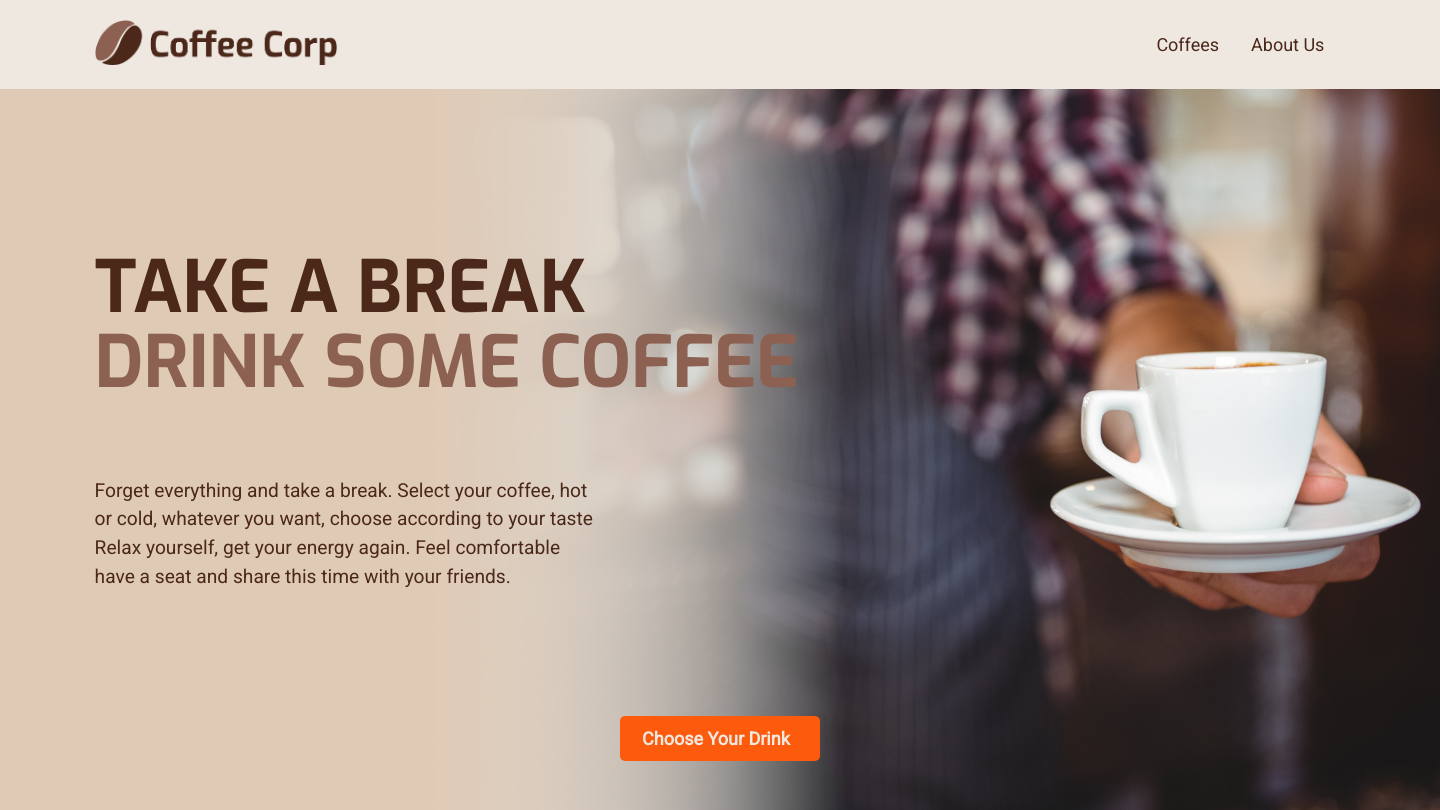
Test: should navigation buttons change page to about us page
The image size is (1440, 810).
Click the link "About Us": [1288, 44] box [1251,34,1324,55]
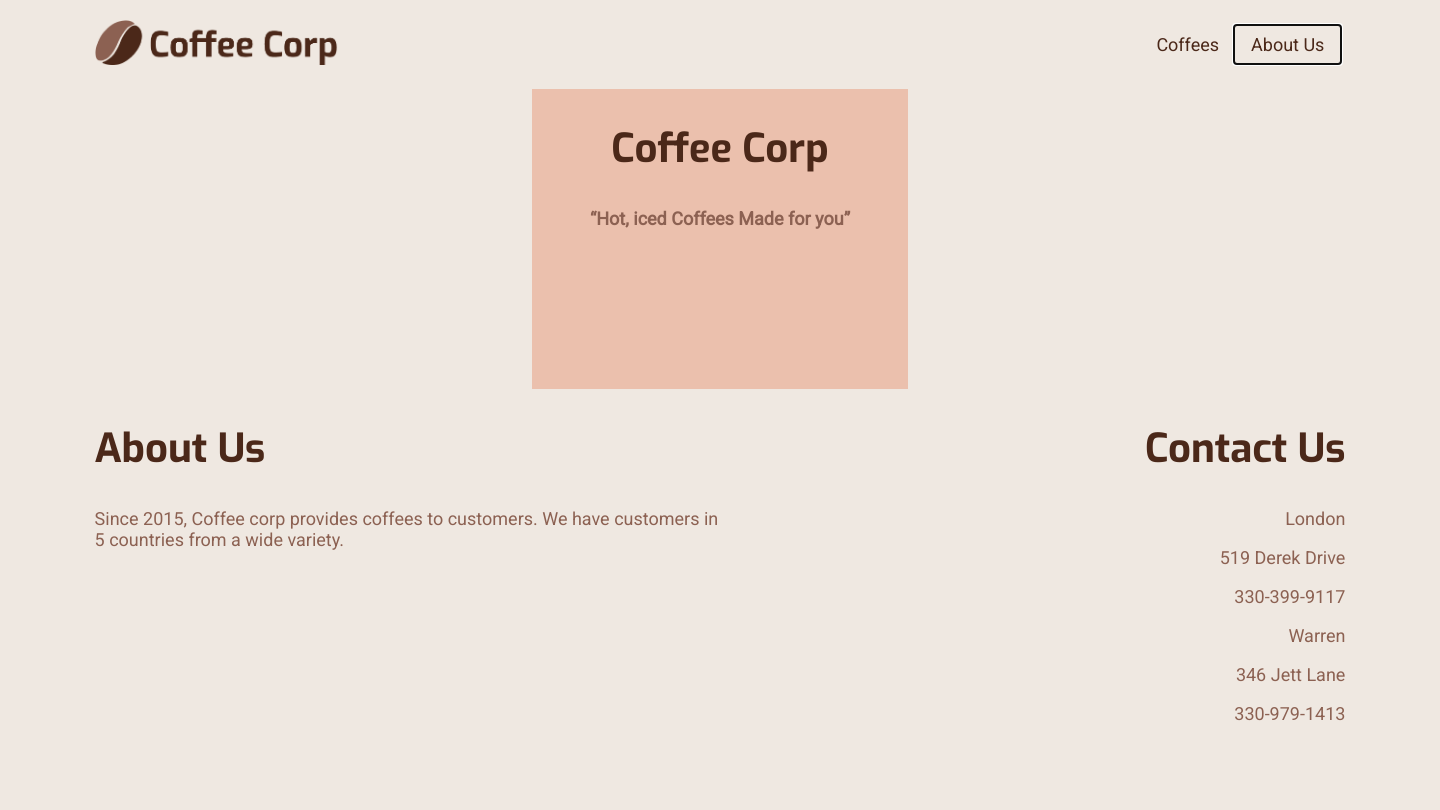
Check: the text with test id "coffee-motto" shows "Hot, iced Coffees Made for you", box [590,208,850,229]
